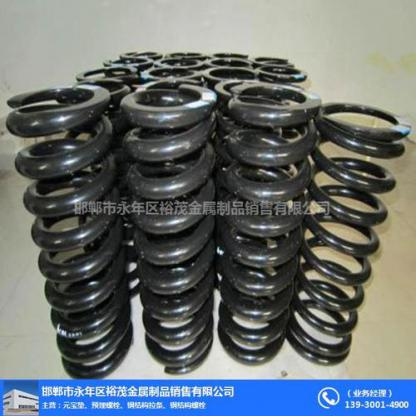FOD: (1, 81, 139, 380), (286, 101, 411, 369), (217, 79, 325, 366), (118, 80, 218, 374)
